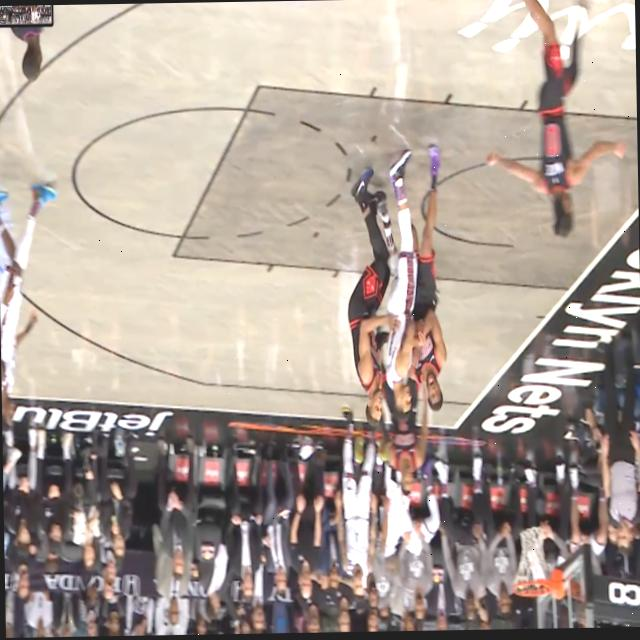foul: (296, 120, 495, 436)
